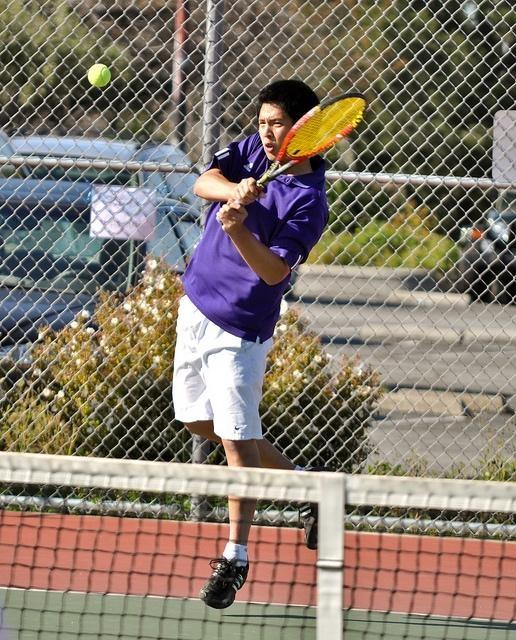car: (0, 178, 204, 394), (0, 133, 210, 209), (457, 211, 516, 271)
